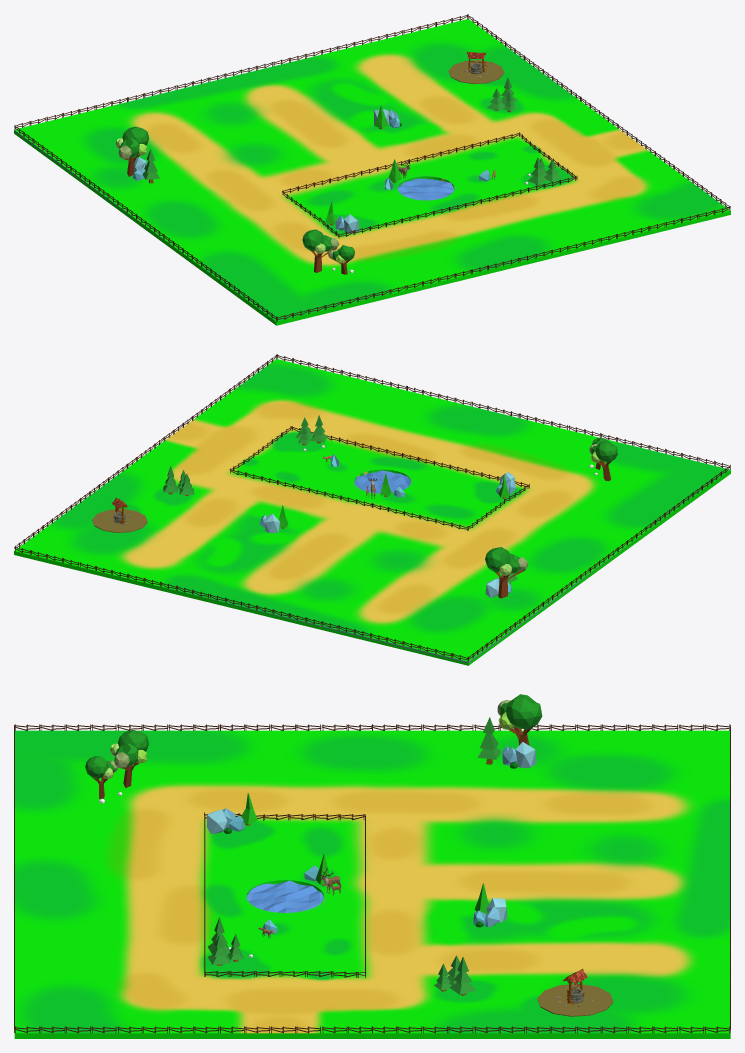
File: groundFin1.glb
3 views of the same model, one above another, from view 1: azimuth 30°, elevation 25°; view 2: azimuth 150°, elevation 25°; view 3: azimuth 270°, elevation 25° (orthographic). The views are drawn at different scales.
Parts seen in each view (by area): view 1: Cube, fence1.003, fence1.002, Cylinder.003, fence1.001, fence1, Plane, Icosphere.030, fence1.005, Icosphere.020, fence1.004; view 2: Cube, fence1.003, fence1.002, Cylinder.003, Icosphere.030, fence1.001, fence1, Plane, fence1.004, fence1.005, Icosphere.020; view 3: Cube, fence1, fence1.001, Cylinder.003, Plane, Icosphere.030, Icosphere.020, Icosphere.018, Cube.020, Cube.022.
Part boxes in pixels (<box>): Cube: <box>14,19,730,325</box>; fence1.003: <box>276,206,730,321</box>; fence1.002: <box>14,14,468,127</box>; Cylinder.003: <box>448,51,504,84</box>; fence1.001: <box>14,125,276,321</box>; fence1: <box>468,14,730,207</box>; Plane: <box>398,178,454,200</box>; Icosphere.030: <box>116,126,149,176</box>; fence1.005: <box>338,176,576,238</box>; Icosphere.020: <box>302,229,339,272</box>; fence1.004: <box>282,132,519,192</box>; Cube: <box>14,359,730,665</box>; fence1.003: <box>277,354,730,467</box>; fence1.002: <box>14,546,468,661</box>; Cylinder.003: <box>92,497,147,532</box>; Icosphere.030: <box>485,547,528,598</box>; fence1.001: <box>468,465,730,661</box>; fence1: <box>15,354,276,547</box>; Plane: <box>354,470,410,493</box>; fence1.004: <box>229,468,467,530</box>; fence1.005: <box>291,426,529,488</box>; Icosphere.020: <box>589,440,617,480</box>; Cube: <box>14,730,730,1038</box>; fence1: <box>14,1026,729,1033</box>; fence1.001: <box>14,724,729,730</box>; Cylinder.003: <box>537,968,613,1016</box>; Plane: <box>246,880,323,912</box>; Icosphere.030: <box>497,694,542,745</box>; Icosphere.020: <box>110,730,148,787</box>; Icosphere.018: <box>85,756,117,798</box>; Cube.020: <box>204,970,366,977</box>; Cube.022: <box>477,717,501,764</box>.
Bounding box in the file's own units: 120 × 13.5 × 120.
69 materials, 1 textured.
